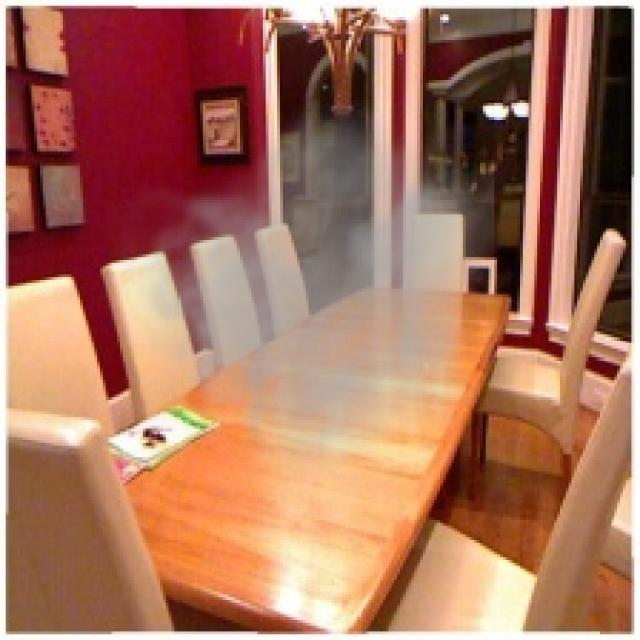smoke: (100, 88, 494, 486)
